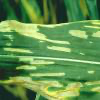Corn Gray leaf spot: (1, 16, 99, 99)
